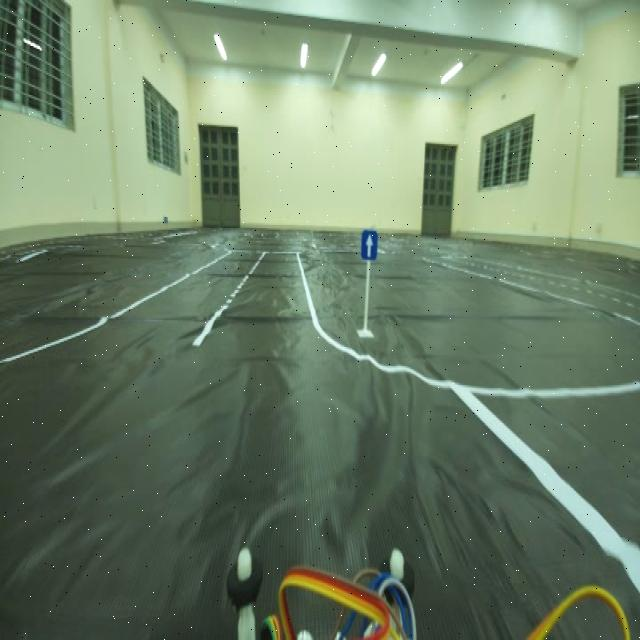onewayroad: (354, 222, 380, 264)
